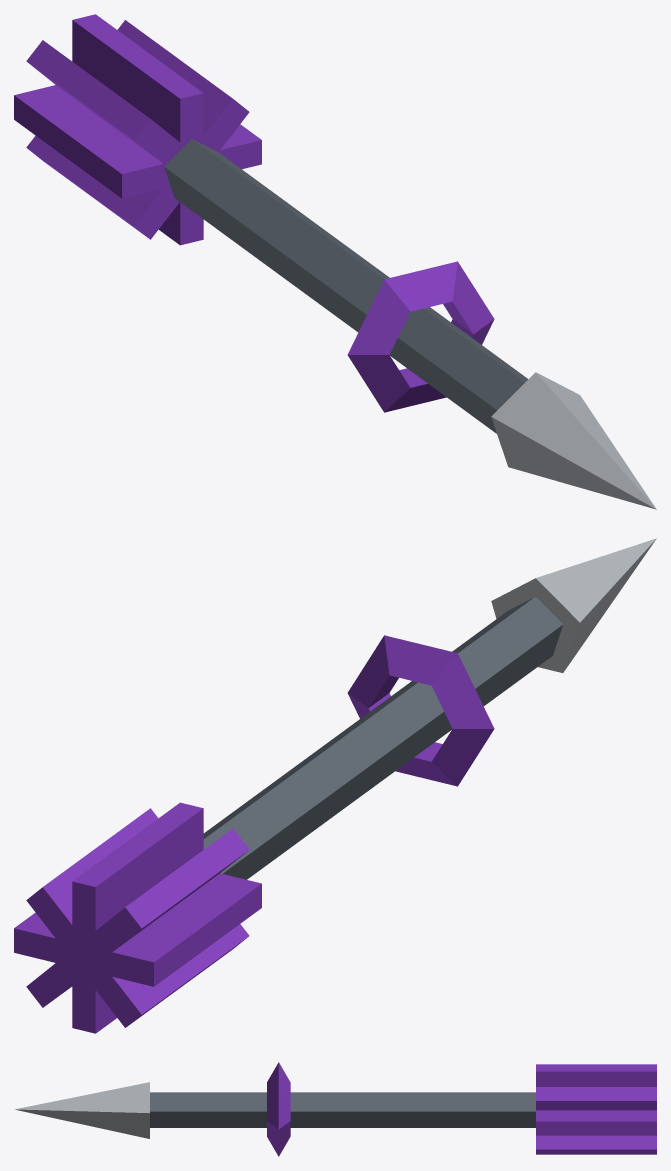
File: panic-dart.lod.glb
3 views of the same model, one above another, from view 1: azimuth 30°, elevation 25°; view 2: azimuth 150°, elevation 25°; view 3: azimuth 270°, elevation 25° (orthographic). The views are drawn at different scales.
Parts seen in each view (by area): view 1: m; view 2: m; view 3: m.
Part boxes in pixels (x1=…): m: x1=14, y1=14, x2=656, y2=509; m: x1=14, y1=538, x2=656, y2=1033; m: x1=14, y1=1062, x2=656, y2=1156.
Size of the model in its own units: 0.0119 by 0.0113 by 0.08.
